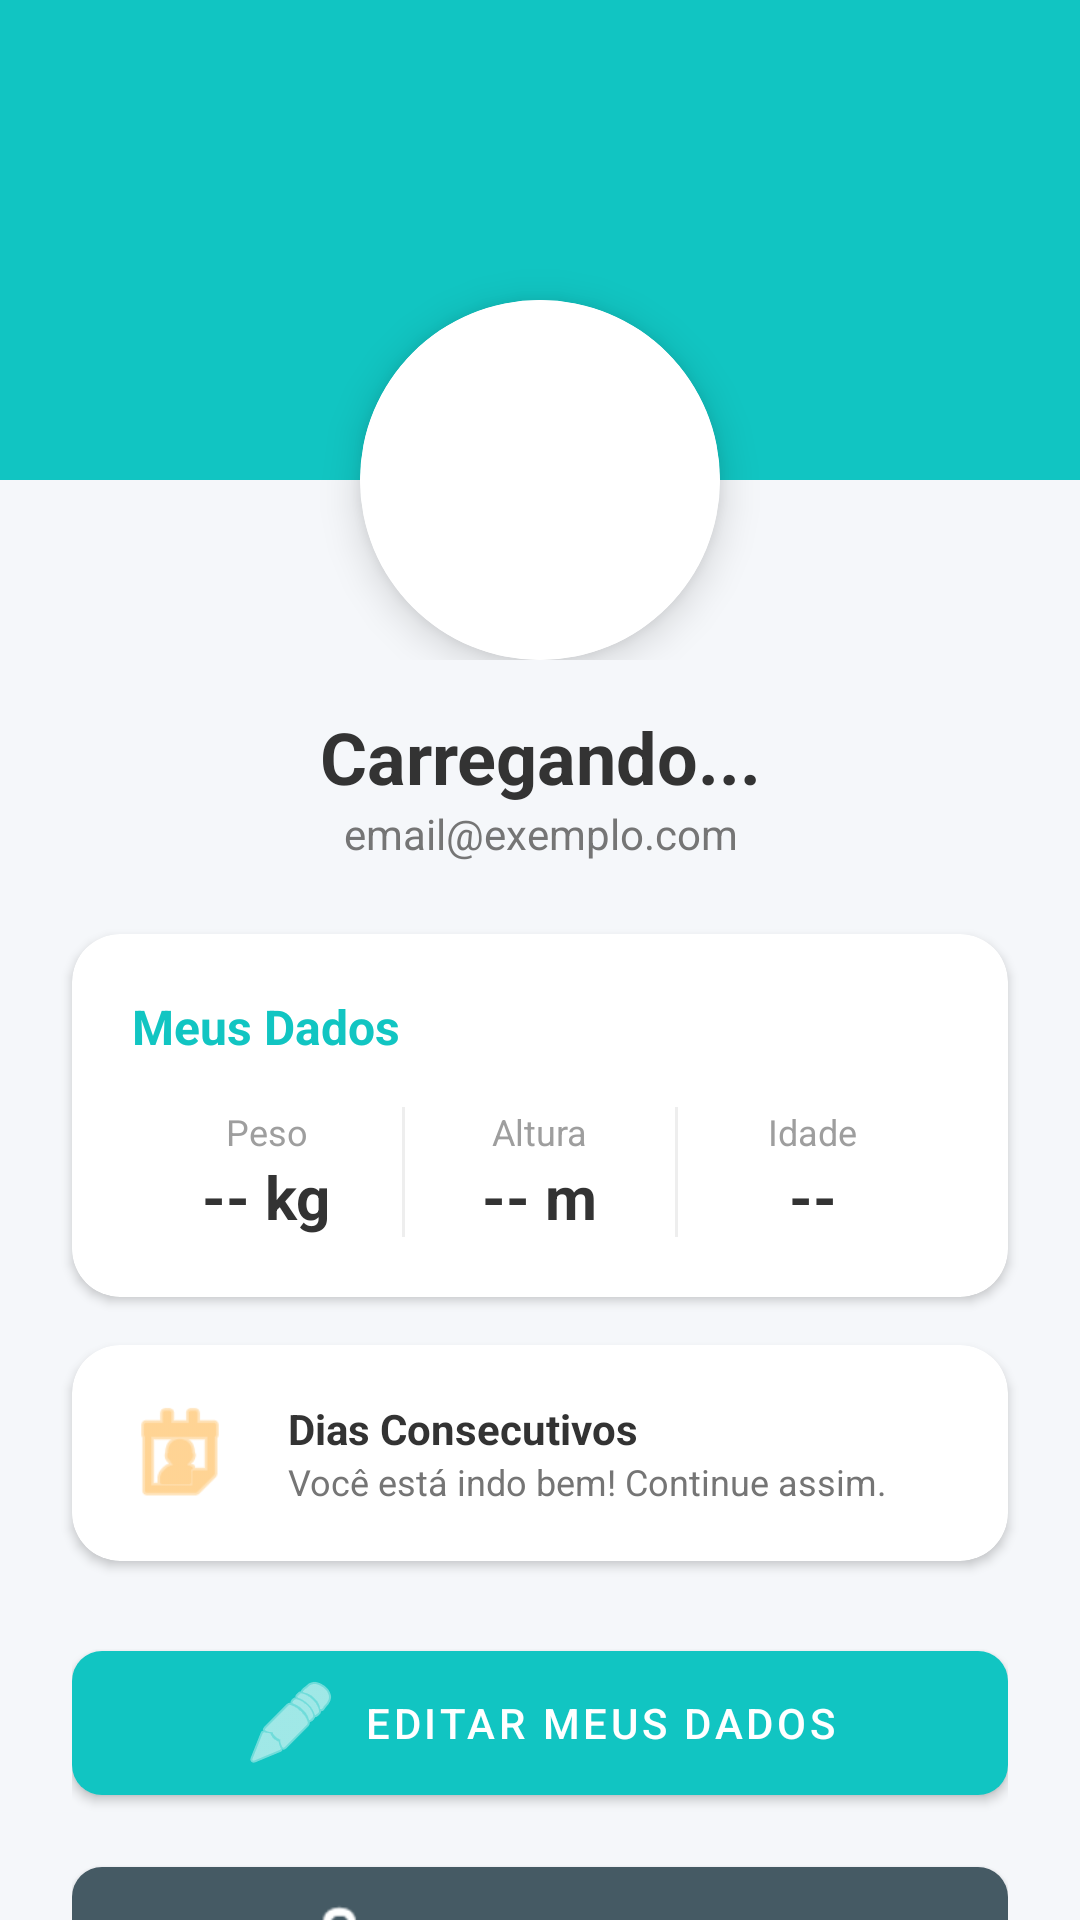

Where to tap for icons on this 1080px×1920px app screen, as (x,y):
calendar: (180,1452)
